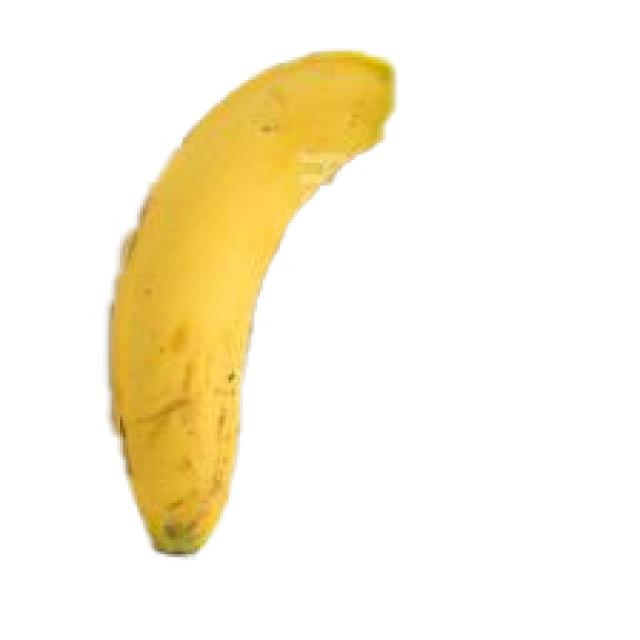fresh-banana: (106, 46, 397, 554)
